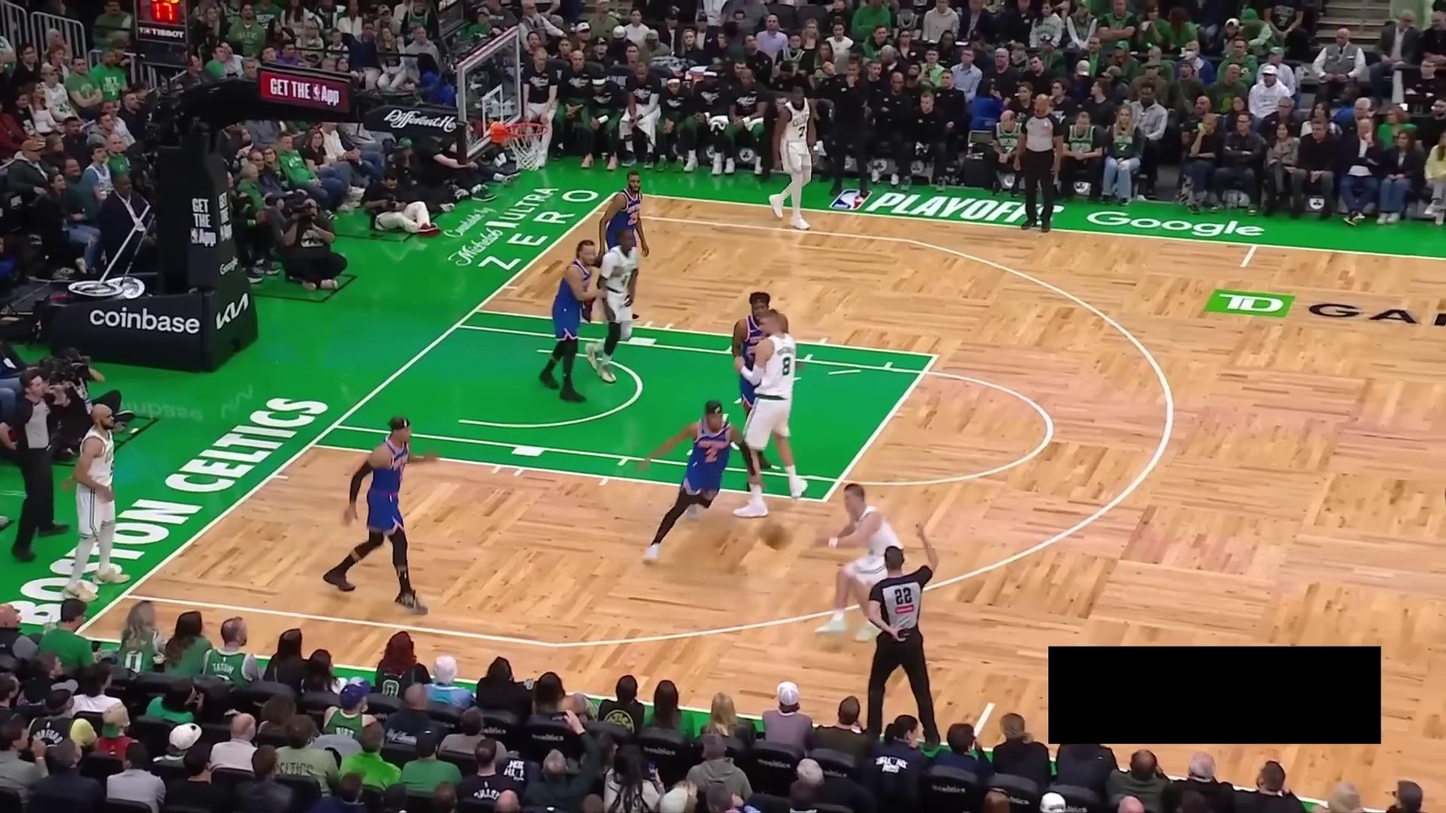ball: (757, 518, 791, 552)
number: (779, 355, 794, 376), (705, 445, 718, 464), (627, 209, 639, 226), (796, 123, 807, 139), (620, 273, 629, 287)
player: (323, 412, 439, 617), (637, 395, 760, 566), (859, 513, 944, 745), (734, 305, 812, 521), (61, 396, 140, 603), (729, 285, 804, 495), (817, 476, 908, 643), (538, 236, 603, 403), (581, 222, 648, 382), (593, 165, 653, 329), (1007, 87, 1070, 238), (765, 80, 824, 234)
referee: (0, 363, 78, 558)
rim: (499, 120, 551, 140)
